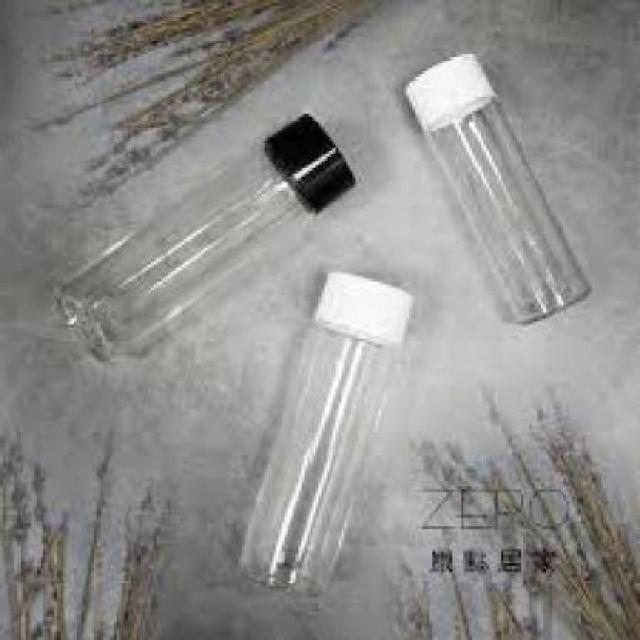kaca: (54, 140, 308, 352), (236, 318, 382, 594), (426, 94, 589, 321)
